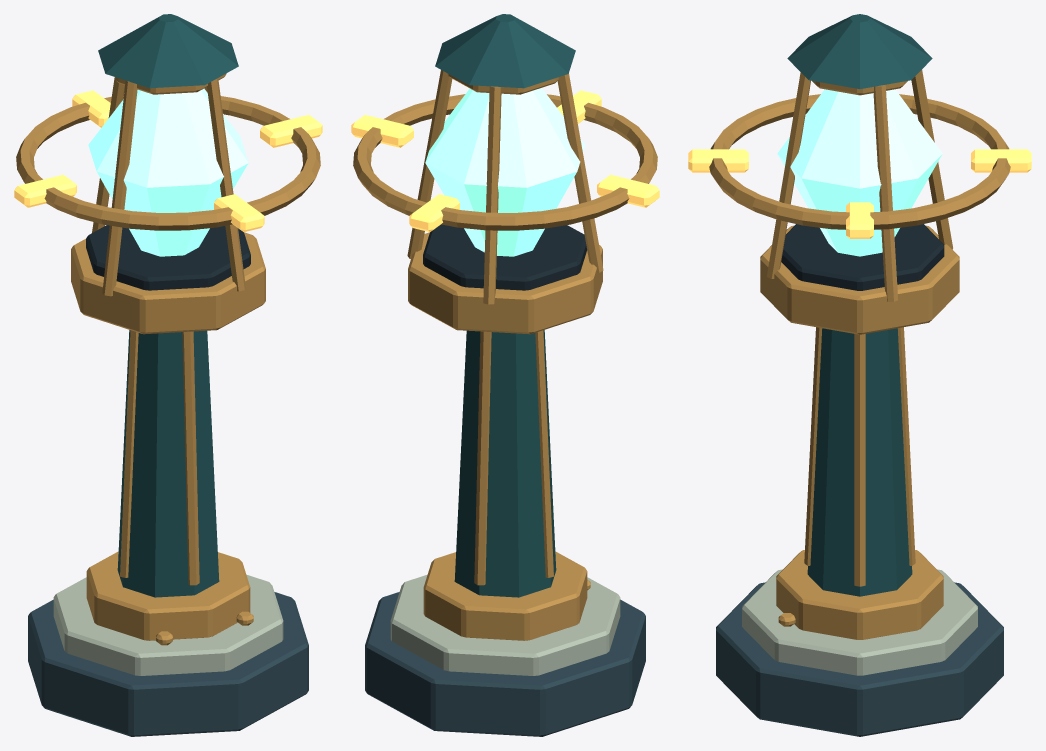
File: beacon.glb
3 views of the same model, side by side, from view 1: azimuth 30°, elevation 25°; view 2: azimuth 150°, elevation 25°; view 3: azimuth 270°, elevation 25° (orthographic).
Parts seen in each view (by area): view 1: Octagonal stone foot, Tapered enameled column, Upper inset limestone step, Lantern crystal upper cut, Lower lantern collar, Horizontal navigation halo, Brass socket, Pointed ceramic roof, Dark lantern gasket, Lantern crystal lower cut, Column gold vertical seam.003, Open lantern brass cage.002 (+8 smaller); view 2: Octagonal stone foot, Tapered enameled column, Upper inset limestone step, Lantern crystal upper cut, Lower lantern collar, Brass socket, Horizontal navigation halo, Pointed ceramic roof, Dark lantern gasket, Lantern crystal lower cut, Column gold vertical seam.001, Open lantern brass cage.001 (+8 smaller); view 3: Tapered enameled column, Octagonal stone foot, Upper inset limestone step, Lantern crystal upper cut, Horizontal navigation halo, Lower lantern collar, Brass socket, Pointed ceramic roof, Dark lantern gasket, Lantern crystal lower cut, Column gold vertical seam, Open lantern brass cage (+7 smaller).
Boxes of the visible parts, bbox=[...] form: Octagonal stone foot: bbox=[28, 592, 308, 736]; Tapered enameled column: bbox=[117, 330, 219, 597]; Upper inset limestone step: bbox=[53, 574, 283, 675]; Lantern crystal upper cut: bbox=[88, 88, 248, 187]; Lower lantern collar: bbox=[71, 232, 265, 334]; Horizontal navigation halo: bbox=[16, 96, 320, 230]; Brass socket: bbox=[86, 551, 250, 640]; Pointed ceramic roof: bbox=[98, 14, 238, 88]; Dark lantern gasket: bbox=[86, 225, 250, 290]; Lantern crystal lower cut: bbox=[97, 163, 248, 256]; Column gold vertical seam.003: bbox=[182, 331, 199, 585]; Open lantern brass cage.002: bbox=[102, 80, 137, 296]; Octagonal stone foot: bbox=[365, 592, 645, 736]; Tapered enameled column: bbox=[454, 330, 556, 597]; Upper inset limestone step: bbox=[390, 574, 620, 675]; Lantern crystal upper cut: bbox=[425, 88, 585, 187]; Lower lantern collar: bbox=[408, 232, 602, 334]; Brass socket: bbox=[423, 551, 587, 640]; Horizontal navigation halo: bbox=[353, 94, 657, 230]; Pointed ceramic roof: bbox=[435, 14, 575, 88]; Dark lantern gasket: bbox=[423, 224, 586, 290]; Lantern crystal lower cut: bbox=[425, 163, 576, 256]; Column gold vertical seam.001: bbox=[474, 331, 491, 585]; Open lantern brass cage.001: bbox=[483, 86, 501, 304]; Tapered enameled column: bbox=[807, 328, 912, 596]; Octagonal stone foot: bbox=[716, 582, 1003, 736]; Upper inset limestone step: bbox=[742, 569, 977, 675]; Lantern crystal upper cut: bbox=[777, 89, 942, 188]; Horizontal navigation halo: bbox=[709, 94, 1010, 229]; Lower lantern collar: bbox=[760, 225, 959, 334]; Brass socket: bbox=[776, 550, 943, 639]; Pointed ceramic roof: bbox=[787, 14, 932, 88]; Dark lantern gasket: bbox=[781, 224, 944, 290]; Lantern crystal lower cut: bbox=[777, 154, 942, 256]; Column gold vertical seam: bbox=[854, 334, 865, 586]; Open lantern brass cage: bbox=[873, 85, 897, 301].
Bounding box in the file's own units: 0.85 × 1.8 × 0.85.
